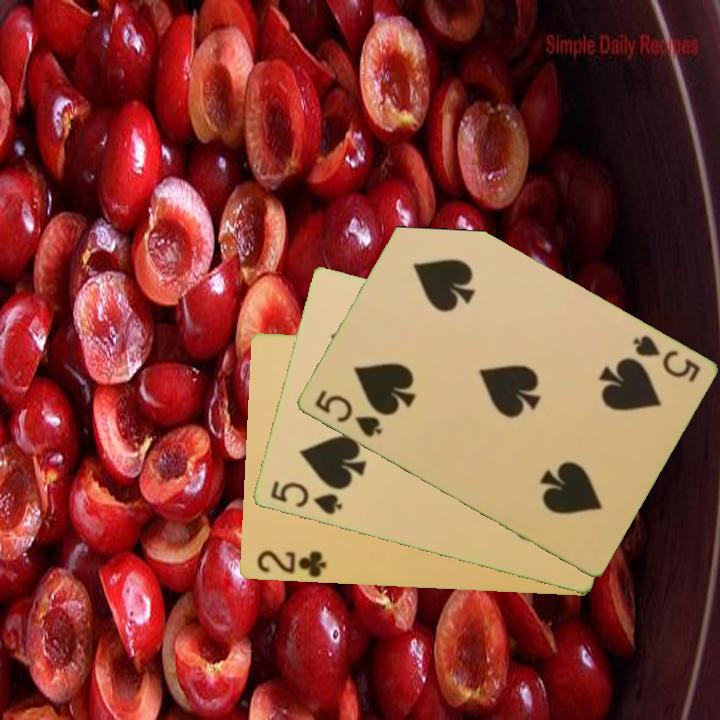2c: (253, 547, 329, 580)
5s: (310, 386, 385, 441), (628, 331, 703, 386), (266, 477, 345, 518)
